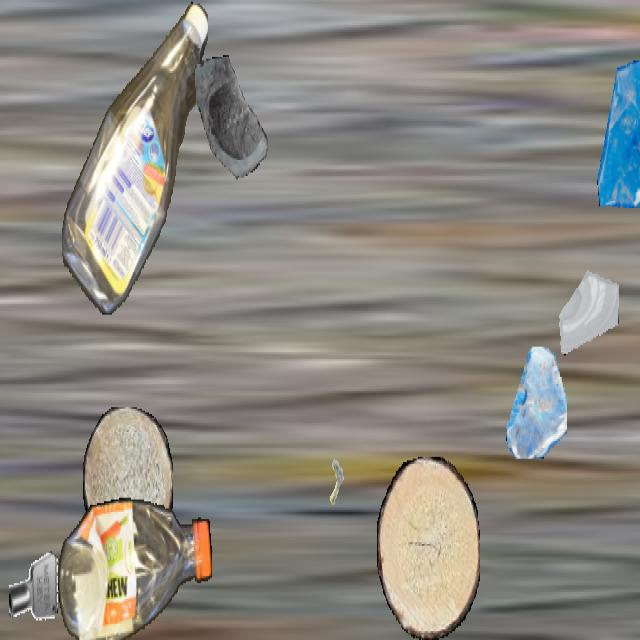glass: (195, 55, 277, 201), (594, 59, 640, 208), (504, 347, 566, 457), (558, 249, 618, 355)
metal: (9, 544, 59, 633), (314, 454, 354, 524)
plastic: (62, 2, 208, 314), (58, 496, 212, 638)
wood: (377, 457, 479, 638), (83, 407, 173, 557)
